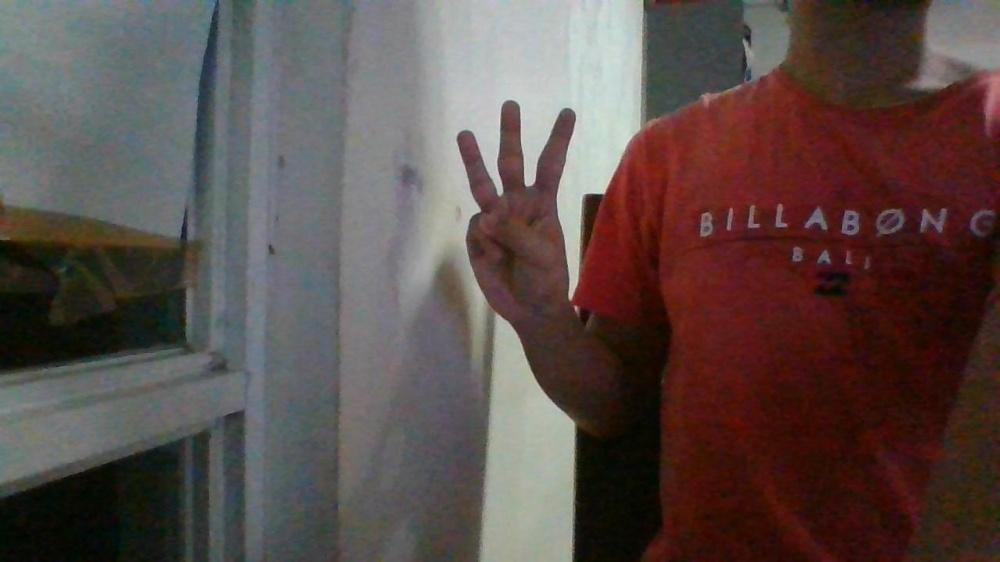w: (455, 98, 575, 322)
